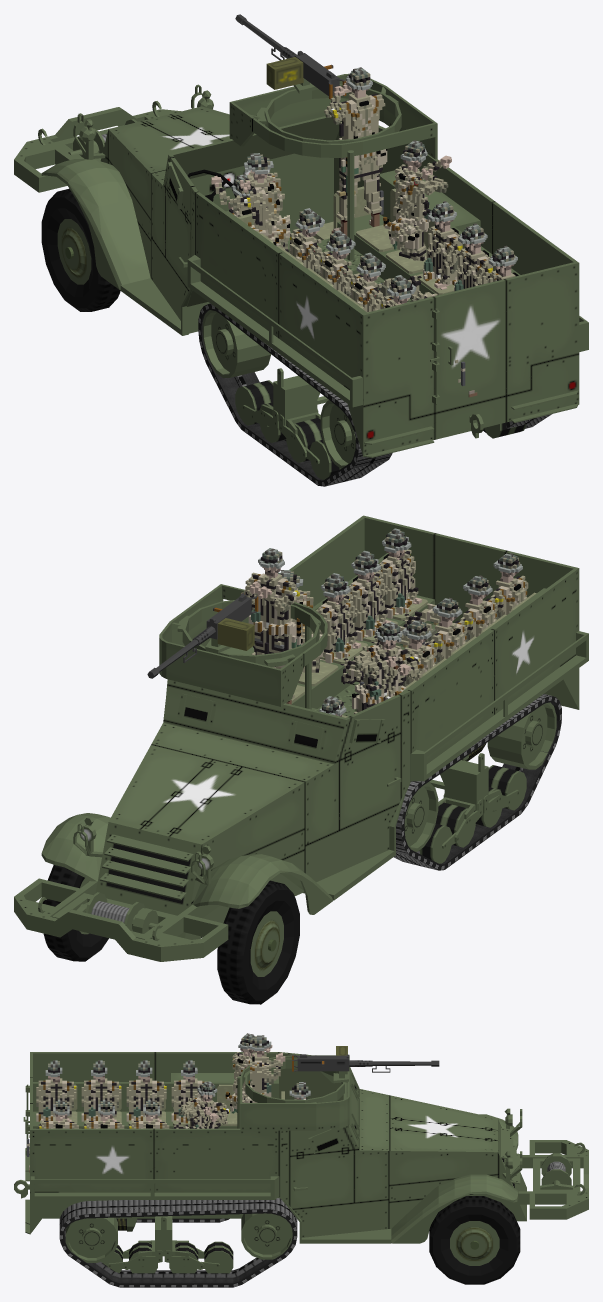
Rendered from m3_halftrack_base.glb.
The picture shows the model from 3 angles, top to bottom: view 1: azimuth 30°, elevation 25°; view 2: azimuth 150°, elevation 25°; view 3: azimuth 270°, elevation 25°; orthographic projection. The views are drawn at different scales.
Visible parts, largest first — view 1: 02_chassis_m3_chassis.mesh, 05_track_m3_track.mesh, 00_tire_m3_wheel.mesh, crew_soldier_SLOT_01_GUNNER, crew_soldier_SLOT_03_PASSENGER, crew_soldier_SLOT_02_PASSENGER, crew_soldier_SLOT_05_PASSENGER, weapon_turret_0_m3_mg.mesh, crew_soldier_SLOT_07_PASSENGER, crew_soldier_SLOT_06_PASSENGER, crew_soldier_SLOT_04_PASSENGER, crew_soldier_SLOT_08_PASSENGER (+2 smaller); view 2: 02_chassis_m3_chassis.mesh, 05_track_m3_track.mesh, 00_tire_m3_wheel.mesh, crew_soldier_SLOT_01_GUNNER, crew_soldier_SLOT_02_PASSENGER, crew_soldier_SLOT_09_PASSENGER, crew_soldier_SLOT_05_PASSENGER, weapon_turret_0_m3_mg.mesh, crew_soldier_SLOT_07_PASSENGER, 01_tire_m3_wheel.mesh, crew_soldier_SLOT_10_PASSENGER, crew_soldier_SLOT_06_PASSENGER (+3 smaller); view 3: 02_chassis_m3_chassis.mesh, 04_track_m3_track.mesh, 01_tire_m3_wheel.mesh, weapon_turret_0_m3_mg.mesh, crew_soldier_SLOT_10_PASSENGER, crew_soldier_SLOT_06_PASSENGER, crew_soldier_SLOT_08_PASSENGER, crew_soldier_SLOT_03_PASSENGER, crew_soldier_SLOT_01_GUNNER, crew_soldier_SLOT_04_PASSENGER, crew_soldier_SLOT_02_PASSENGER, crew_soldier_SLOT_07_PASSENGER (+3 smaller).
Part boxes in pixels (left/top/right/bottom): 02_chassis_m3_chassis.mesh: left=14, top=73, right=588, bottom=479; 05_track_m3_track.mesh: left=198, top=303, right=392, bottom=486; 00_tire_m3_wheel.mesh: left=41, top=188, right=120, bottom=311; crew_soldier_SLOT_01_GUNNER: left=324, top=67, right=387, bottom=235; crew_soldier_SLOT_03_PASSENGER: left=383, top=140, right=451, bottom=260; crew_soldier_SLOT_02_PASSENGER: left=211, top=153, right=290, bottom=252; crew_soldier_SLOT_05_PASSENGER: left=378, top=201, right=462, bottom=301; weapon_turret_0_m3_mg.mesh: left=235, top=14, right=346, bottom=99; crew_soldier_SLOT_07_PASSENGER: left=454, top=223, right=492, bottom=291; crew_soldier_SLOT_06_PASSENGER: left=319, top=230, right=355, bottom=297; crew_soldier_SLOT_04_PASSENGER: left=289, top=208, right=324, bottom=274; crew_soldier_SLOT_08_PASSENGER: left=350, top=252, right=385, bottom=311; 02_chassis_m3_chassis.mesh: left=14, top=515, right=588, bottom=961; 05_track_m3_track.mesh: left=393, top=694, right=561, bottom=870; 00_tire_m3_wheel.mesh: left=217, top=880, right=299, bottom=1004; crew_soldier_SLOT_01_GUNNER: left=240, top=548, right=300, bottom=704; crew_soldier_SLOT_02_PASSENGER: left=352, top=622, right=421, bottom=713; crew_soldier_SLOT_09_PASSENGER: left=378, top=528, right=440, bottom=645; crew_soldier_SLOT_05_PASSENGER: left=317, top=573, right=367, bottom=685; weapon_turret_0_m3_mg.mesh: left=147, top=592, right=258, bottom=678; crew_soldier_SLOT_07_PASSENGER: left=347, top=550, right=410, bottom=665; 01_tire_m3_wheel.mesh: left=42, top=865, right=108, bottom=961; crew_soldier_SLOT_10_PASSENGER: left=490, top=553, right=528, bottom=619; crew_soldier_SLOT_06_PASSENGER: left=430, top=597, right=467, bottom=664; 02_chassis_m3_chassis.mesh: left=14, top=1052, right=588, bottom=1273; 04_track_m3_track.mesh: left=59, top=1198, right=297, bottom=1287; 01_tire_m3_wheel.mesh: left=429, top=1196, right=520, bottom=1284; weapon_turret_0_m3_mg.mesh: left=292, top=1046, right=439, bottom=1083; crew_soldier_SLOT_10_PASSENGER: left=27, top=1060, right=76, bottom=1172; crew_soldier_SLOT_06_PASSENGER: left=126, top=1060, right=166, bottom=1128; crew_soldier_SLOT_08_PASSENGER: left=81, top=1060, right=121, bottom=1128; crew_soldier_SLOT_03_PASSENGER: left=179, top=1081, right=229, bottom=1128; crew_soldier_SLOT_01_GUNNER: left=247, top=1035, right=285, bottom=1102; crew_soldier_SLOT_04_PASSENGER: left=171, top=1060, right=207, bottom=1128; crew_soldier_SLOT_02_PASSENGER: left=225, top=1033, right=272, bottom=1113; crew_soldier_SLOT_07_PASSENGER: left=84, top=1099, right=124, bottom=1128.
Bounding box in the file's own units: 2.69 × 3.36 × 7.65.
39 materials, 3 textured.
